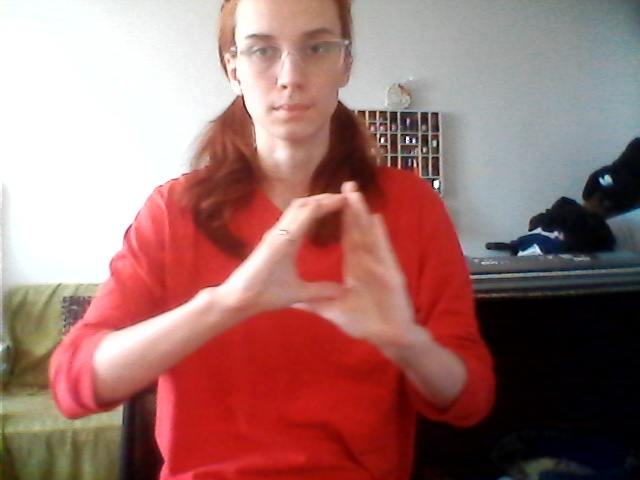d: (248, 179, 413, 347)
